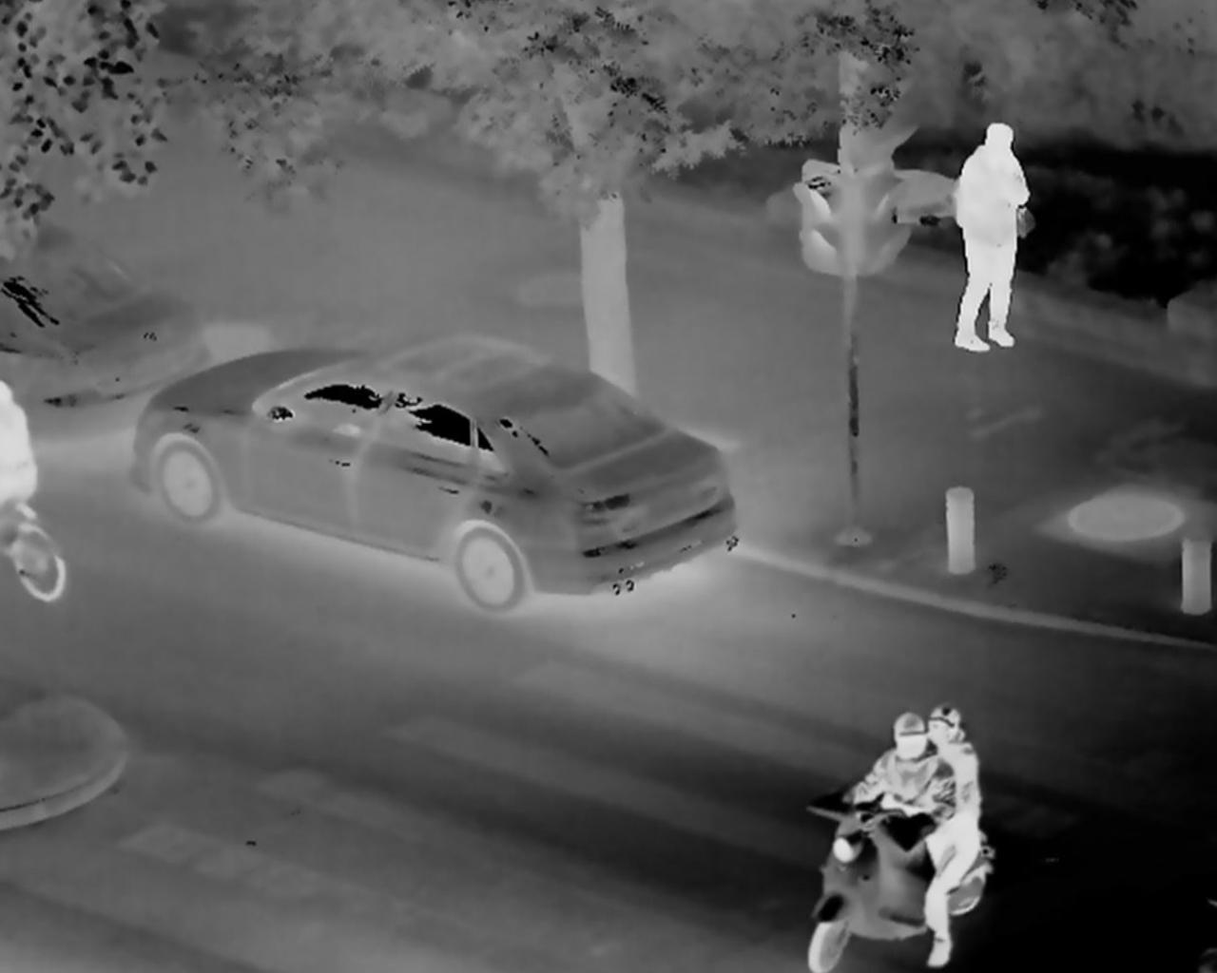person: (946, 119, 1035, 374), (914, 706, 991, 973), (857, 711, 944, 897)
